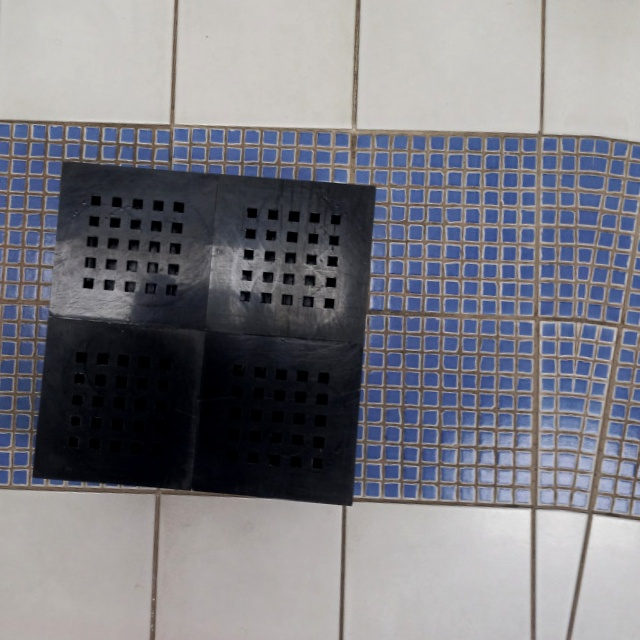pallet: (14, 132, 390, 527)
